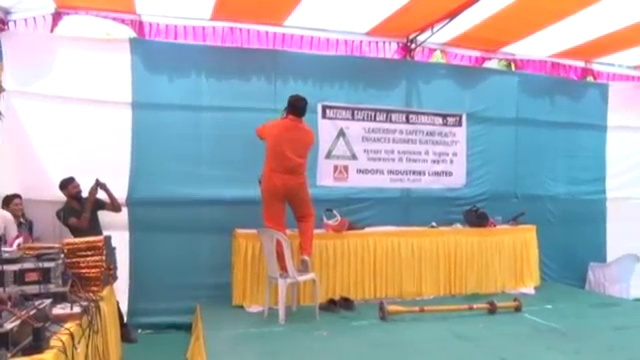helmet_off: (2, 192, 28, 221), (282, 93, 309, 120), (59, 176, 84, 202)
person: (252, 90, 316, 271), (54, 175, 124, 234), (1, 190, 38, 240)
